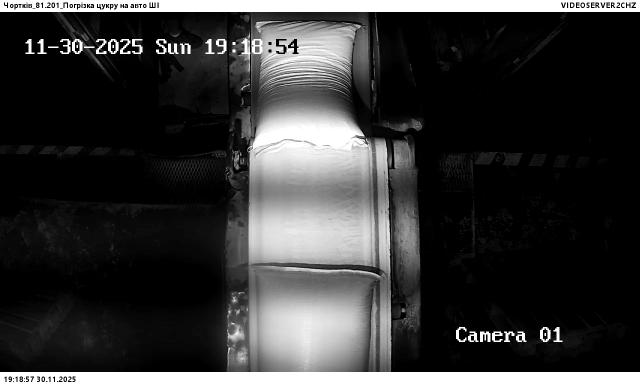bag: (254, 21, 369, 156), (251, 263, 381, 371)
